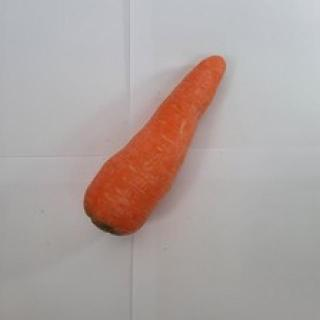carrot: (85, 54, 226, 236)
